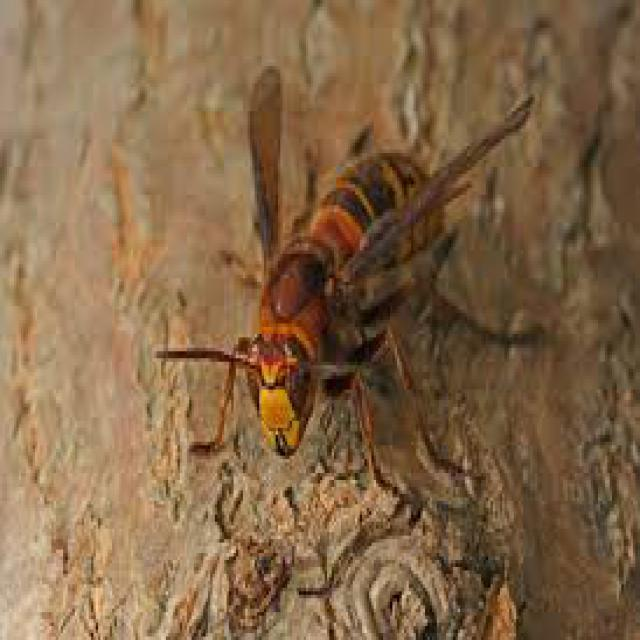Vespa Crabro: (138, 53, 554, 519)
